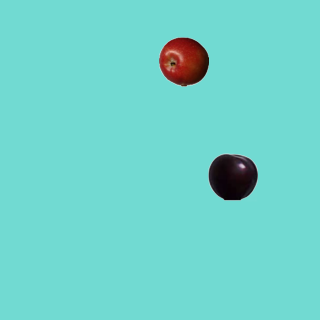Apple Braeburn: (158, 36, 208, 86)
Cherry Wax Black: (207, 151, 257, 201)
